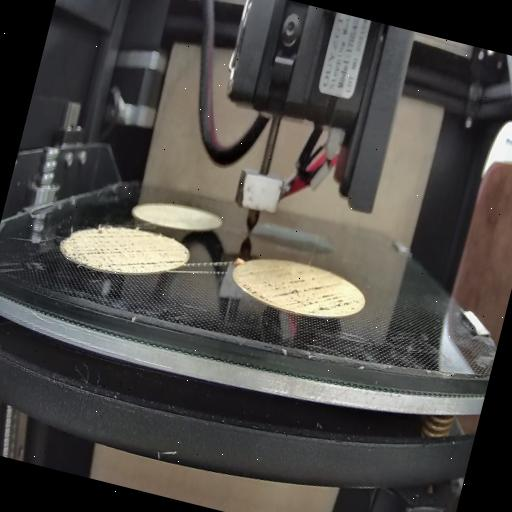under_extrusion: (240, 264, 360, 324), (60, 222, 126, 280), (125, 246, 188, 280)
